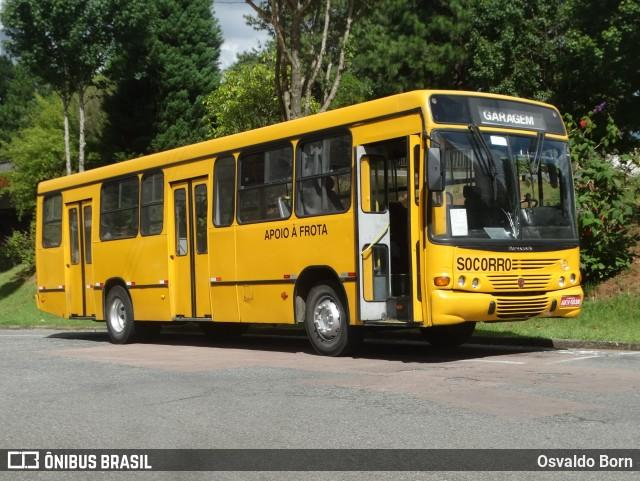GARAGEM: (478, 105, 539, 130)
